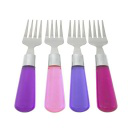fork: (88, 16, 122, 114)
